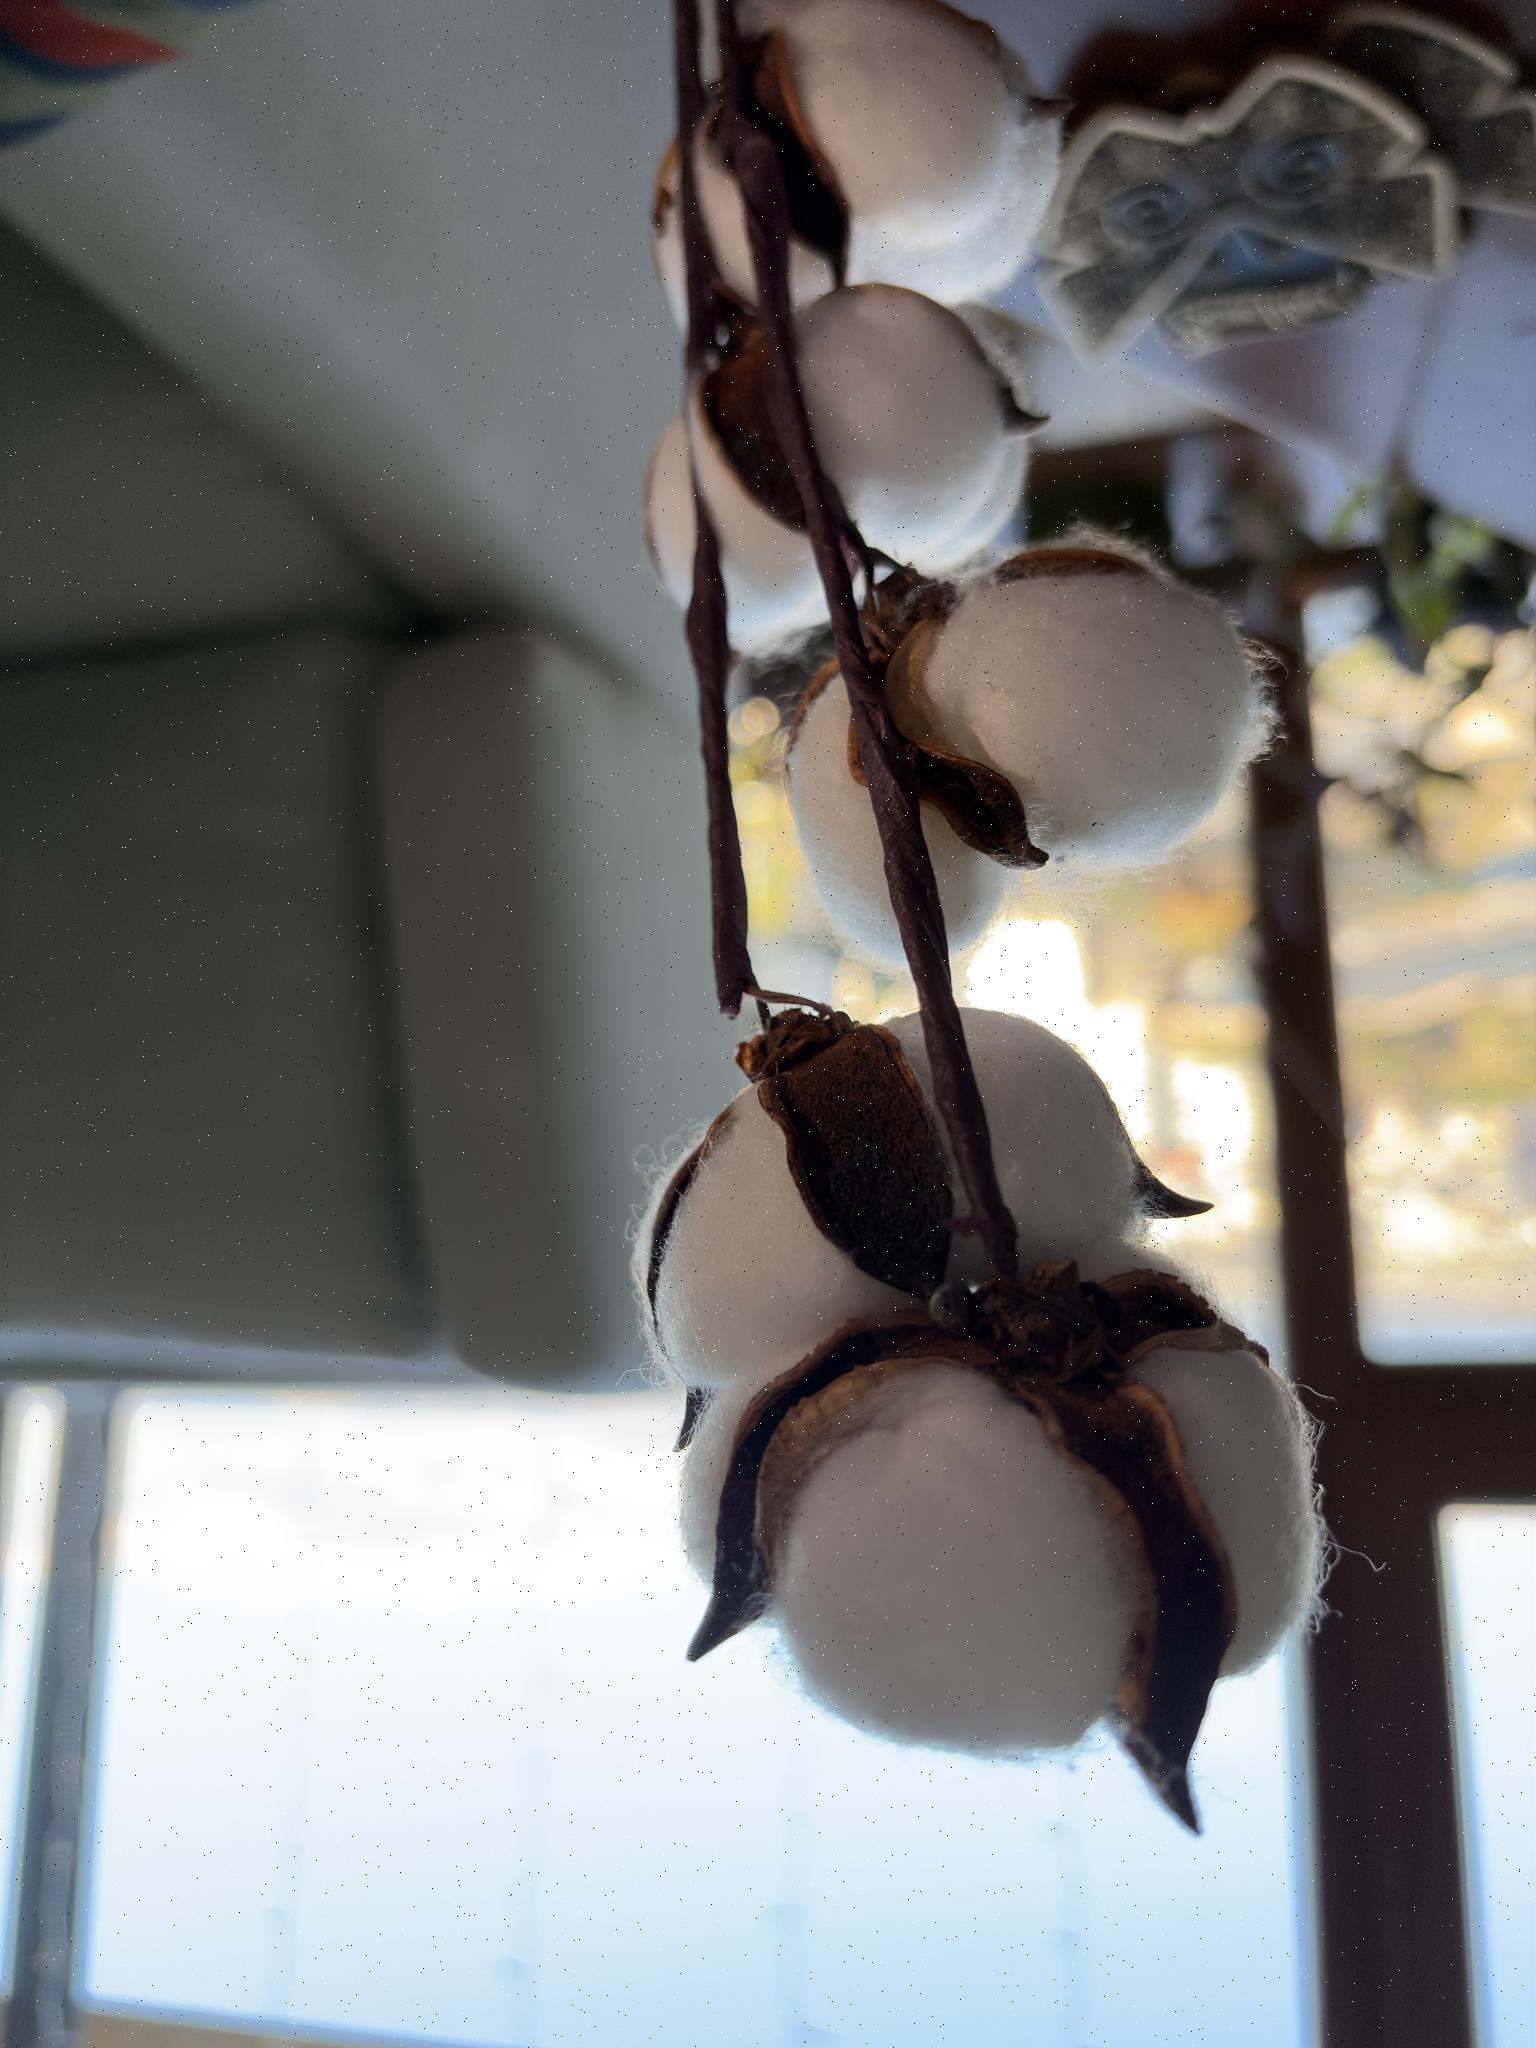cotton_boll: (774, 1364, 1139, 1758), (926, 564, 1270, 879), (657, 1089, 916, 1392), (752, 0, 1023, 250), (795, 284, 1026, 569), (1137, 1348, 1321, 1677), (966, 1009, 1173, 1277), (849, 48, 1062, 306), (645, 397, 826, 653), (787, 671, 904, 963), (892, 440, 1029, 576), (679, 1392, 750, 1588), (692, 110, 760, 311), (923, 806, 1012, 951), (789, 235, 834, 310), (1242, 1501, 1244, 1501)
cotton_boll-cluster: (613, 977, 1334, 1774), (784, 521, 1279, 974), (613, 0, 1073, 355), (652, 285, 1041, 661)
